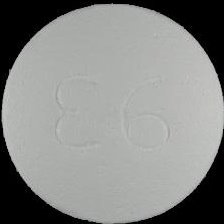0093-8163: (0, 0, 224, 224)
